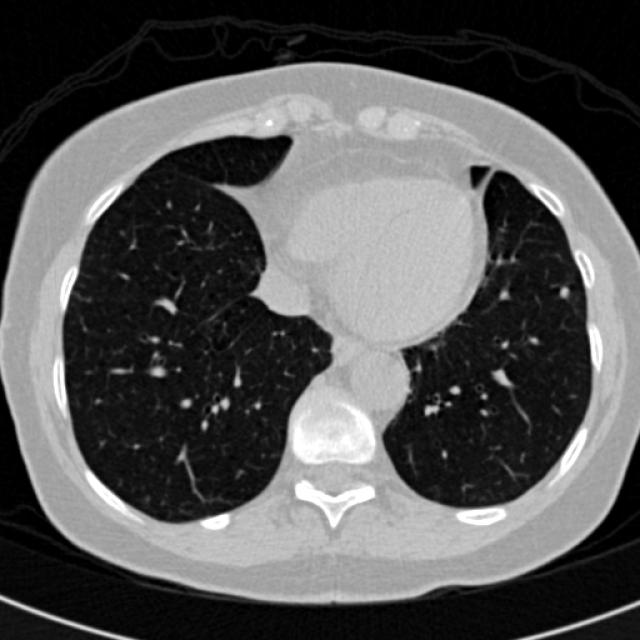nodule: (550, 278, 575, 304)
